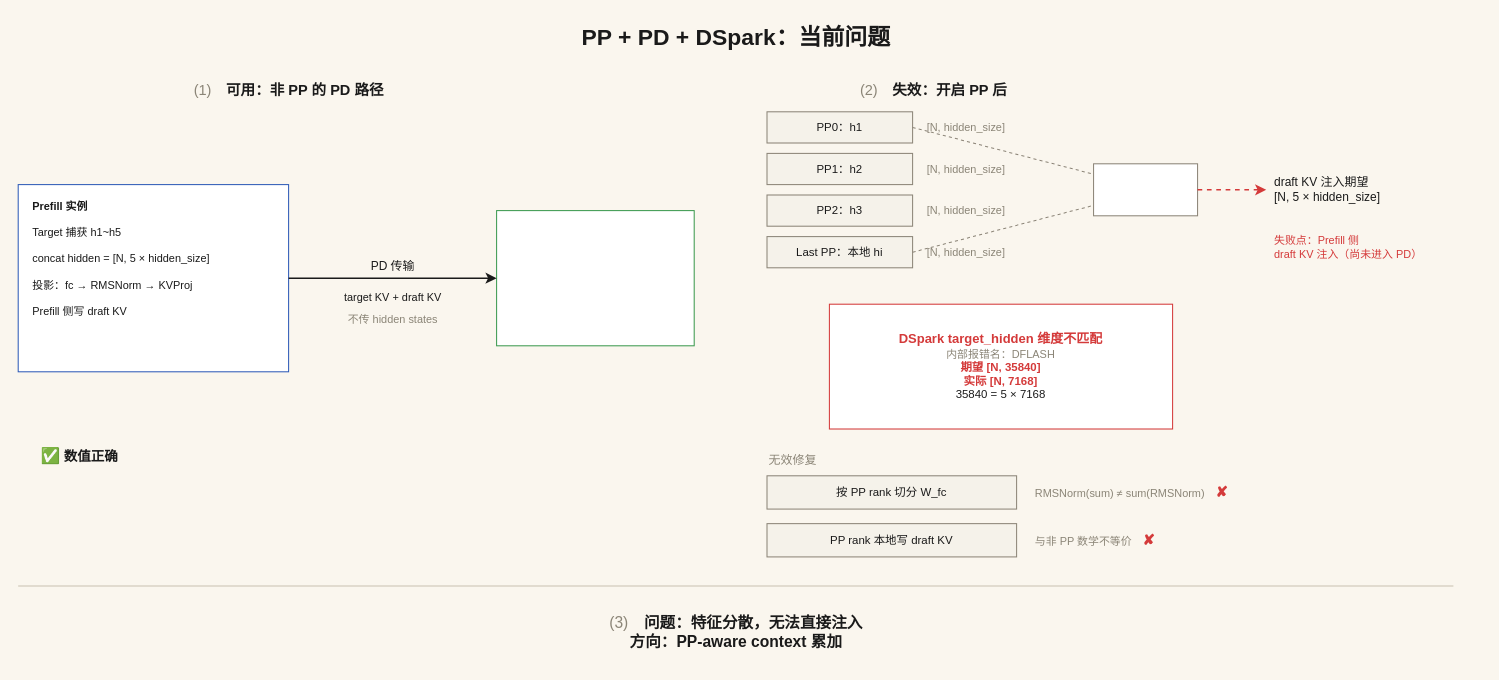
This 1499x680 diagram has some shape labels left out. Here are the shapes that lost their labels. From the top down, the centre of each, then its label:
[1145,189]: 各 PP 仅有 local hi
[595,278]: Decode 实例 接收 KV DSpark propose / verify
